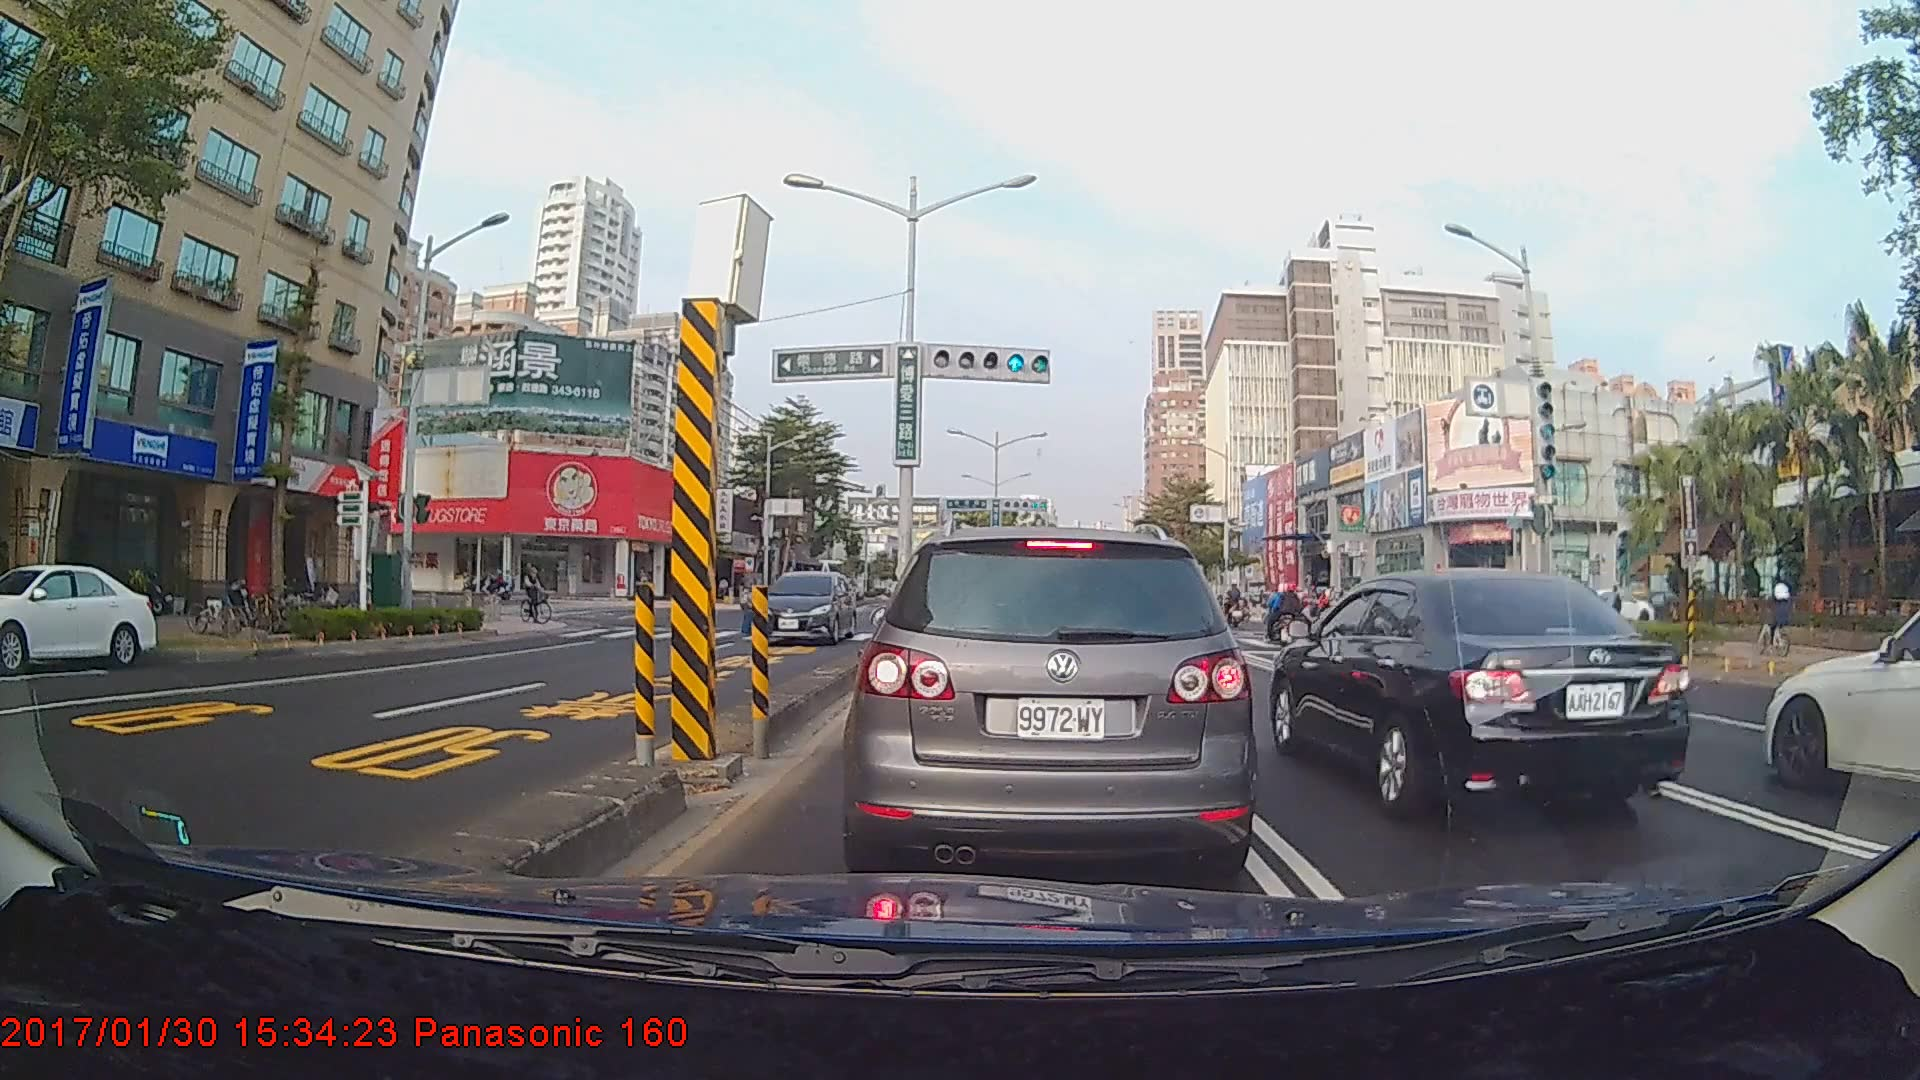pedestrian: (1605, 581, 1625, 640)
rider: (1751, 578, 1801, 654), (1262, 582, 1314, 650), (518, 559, 561, 629), (477, 564, 520, 603)
vehicle: (855, 524, 1246, 876), (1269, 566, 1694, 826), (1761, 579, 1920, 817), (0, 561, 157, 671), (750, 570, 859, 646)
